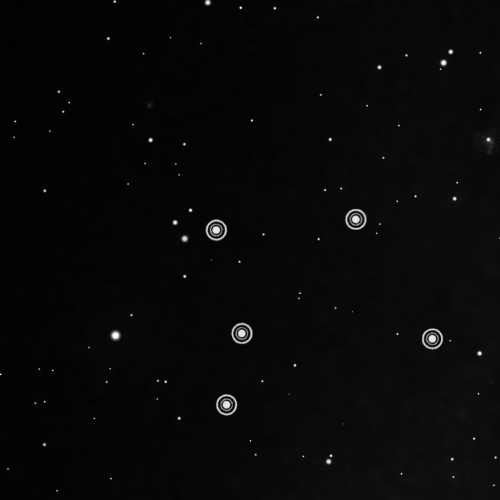libra: (197, 202, 449, 421)
